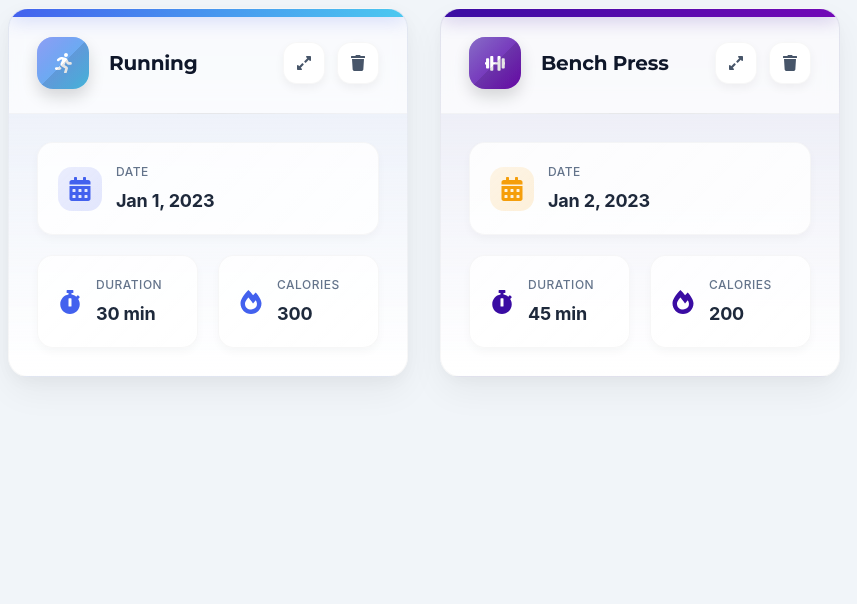
WorkoutList › expands and collapses workout notes
The width and height of the screenshot is (857, 604).
Click the button titled "Expand" next to "Running": [304, 63] box [283, 42, 325, 84]
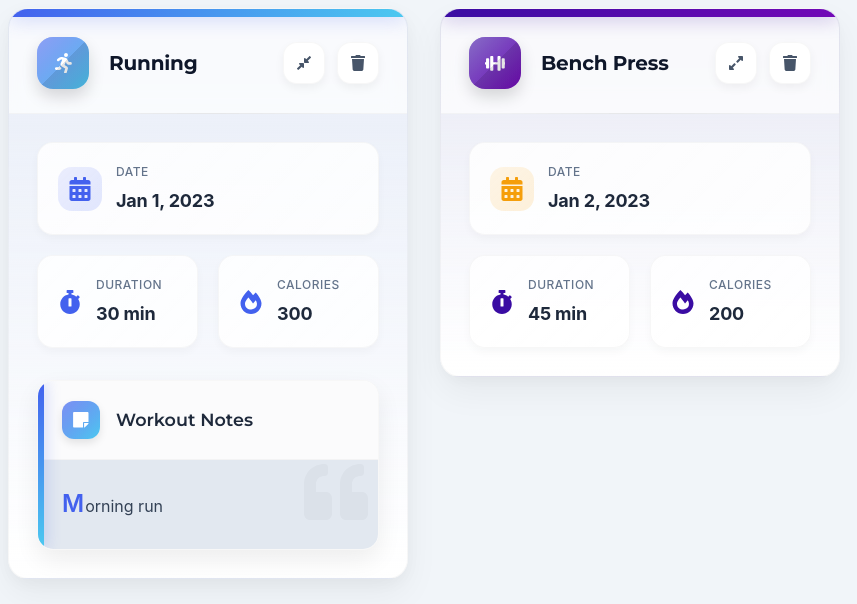
Now the text "Morning run" is shown, box [62, 489, 163, 518]
Now the button titled "Collapse" is shown, box [283, 42, 325, 84]
